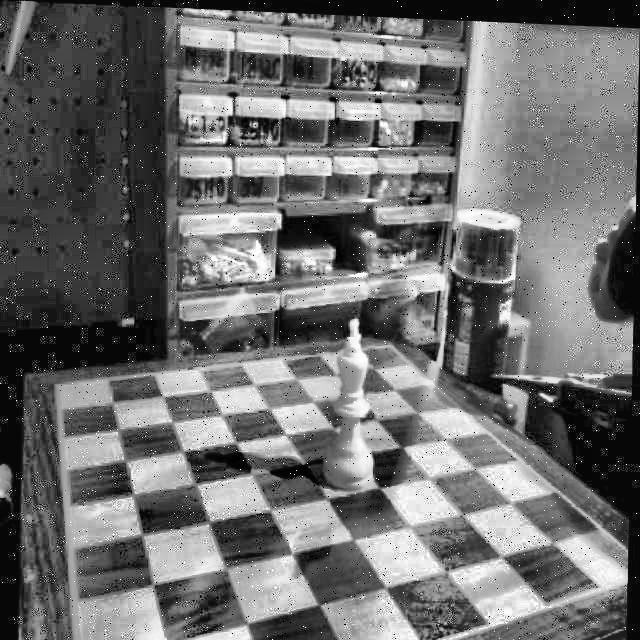white-king: (329, 315, 379, 490)
